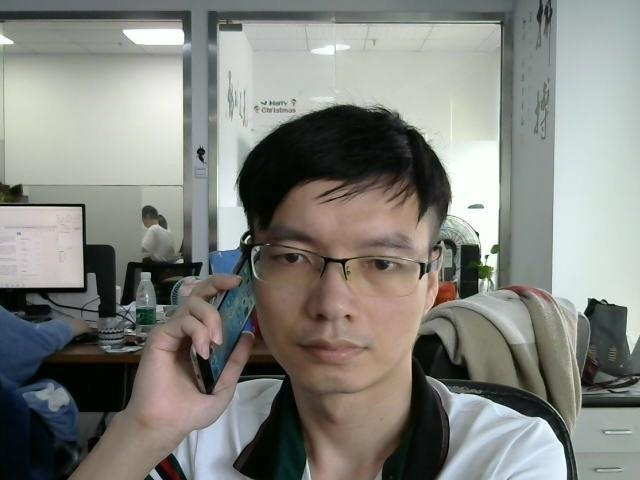hand: (137, 272, 245, 425)
